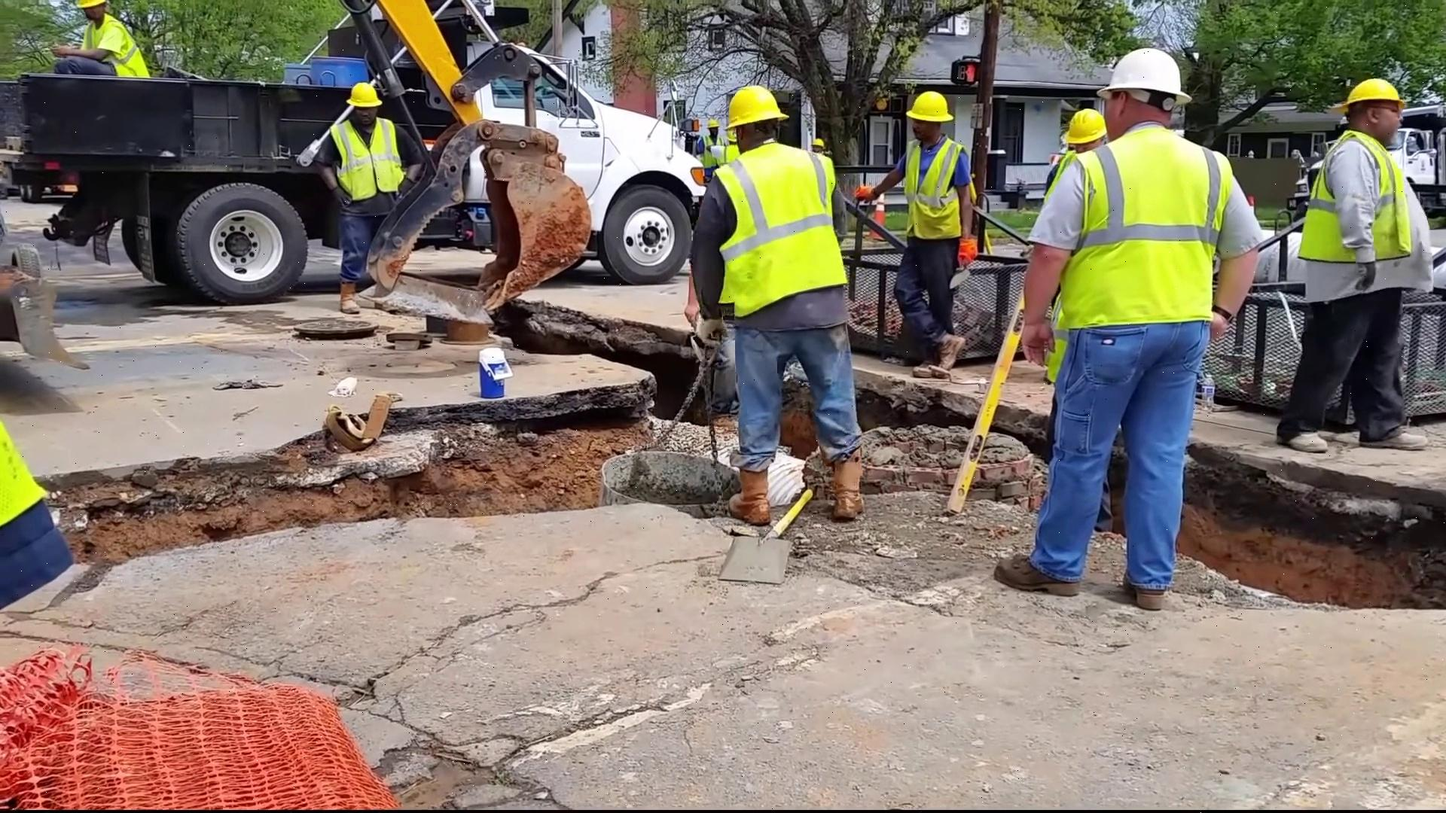Hard_hat: (1100, 43, 1197, 100), (721, 83, 787, 129), (1348, 65, 1400, 110), (897, 83, 960, 120), (708, 176, 763, 201), (1062, 108, 1100, 137)
Vest: (1068, 141, 1261, 346), (701, 154, 835, 322), (1308, 141, 1405, 275), (902, 133, 974, 251), (331, 112, 405, 197), (77, 18, 153, 75)
